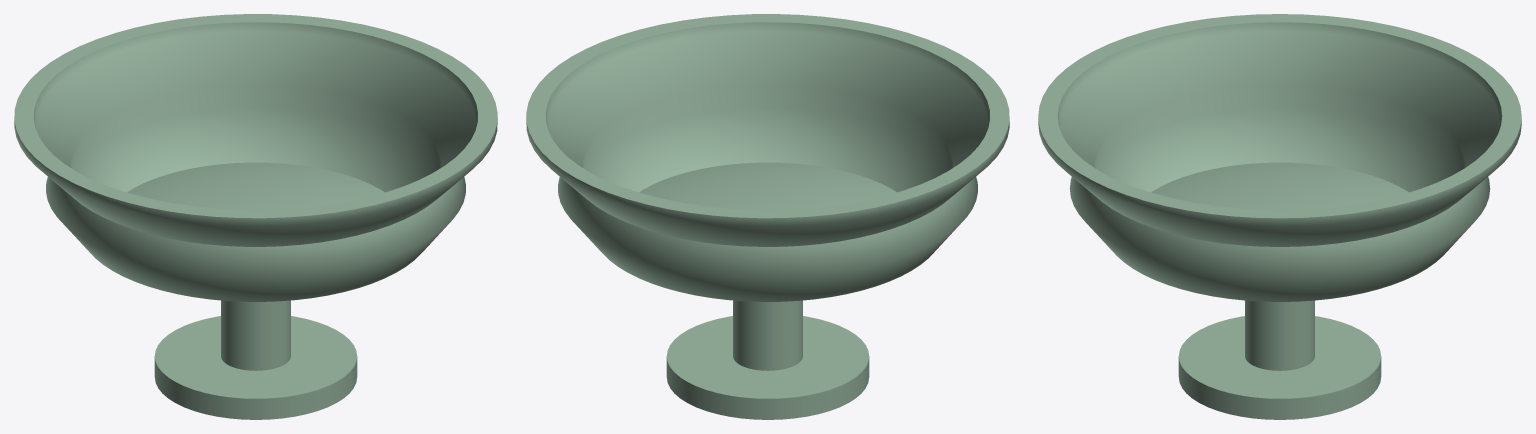
The model's file is footed-fruit-bowl.glb.
The picture shows the model from 3 angles, left to right: view 1: azimuth 30°, elevation 25°; view 2: azimuth 150°, elevation 25°; view 3: azimuth 270°, elevation 25°; orthographic projection.
Visible parts, largest first — view 1: footed-fruit-bowl; view 2: footed-fruit-bowl; view 3: footed-fruit-bowl.
Boxes of the visible parts, <box> form: footed-fruit-bowl: <box>14,14,497,419</box>; footed-fruit-bowl: <box>526,14,1009,419</box>; footed-fruit-bowl: <box>1038,14,1521,419</box>.
Bounding box in the file's own units: 0.621 × 0.37 × 0.621.
